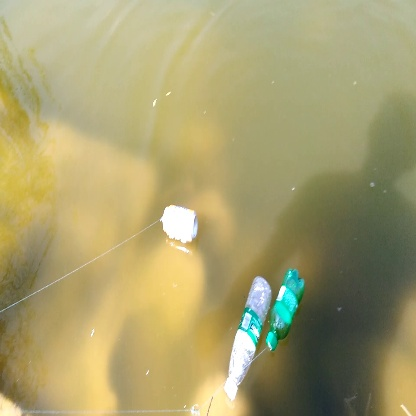bottle: (221, 274, 274, 397), (159, 201, 203, 247)
